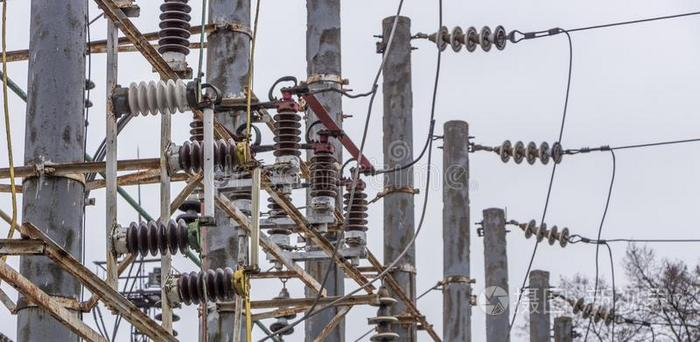insulator: (436, 24, 505, 52), (496, 140, 565, 165), (524, 218, 570, 247), (572, 296, 606, 324)
